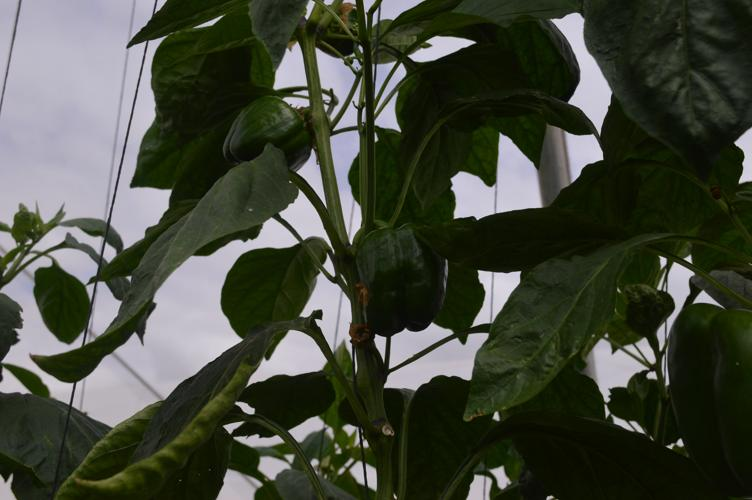BellPepper: (354, 224, 448, 338), (222, 97, 310, 175)
